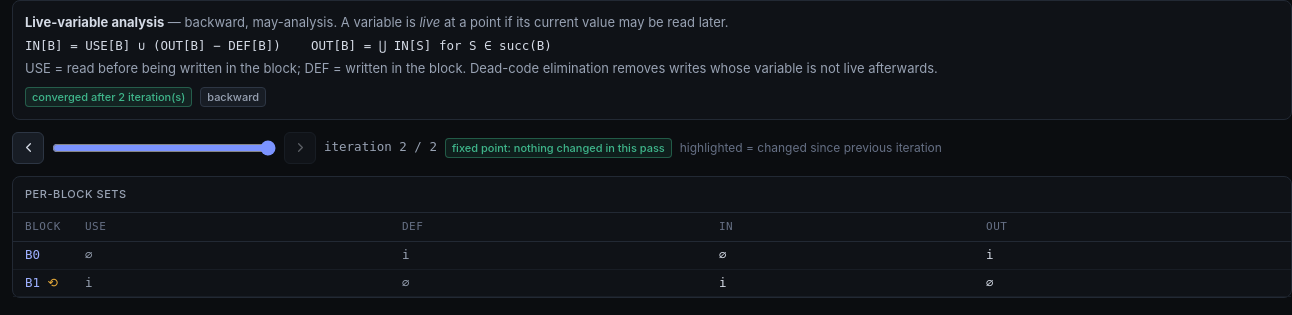
Test: Dataflow view › steps through iteration history
Check: the text "iteration 2 / 2" is shown, box [324,138,437,157]
Set the slider to "1" at (60, 148), box [52,140,276,156]
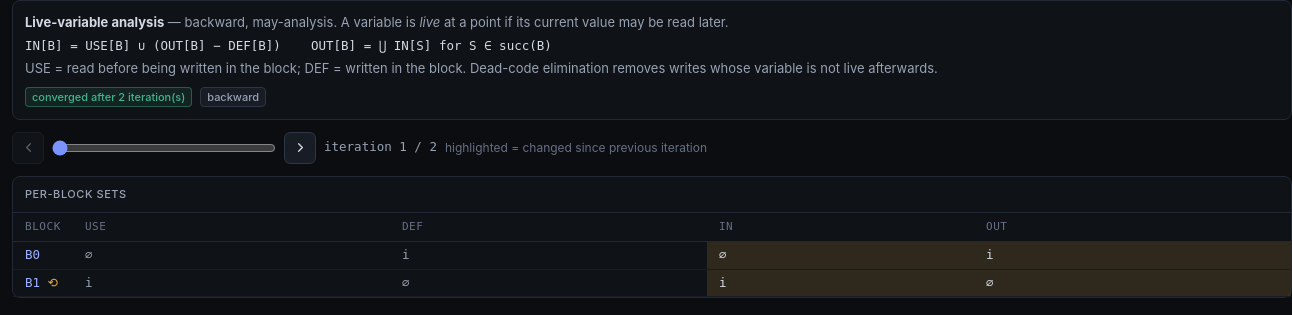
Check: the text "iteration 1 / 2" is shown, box [324,138,437,157]
